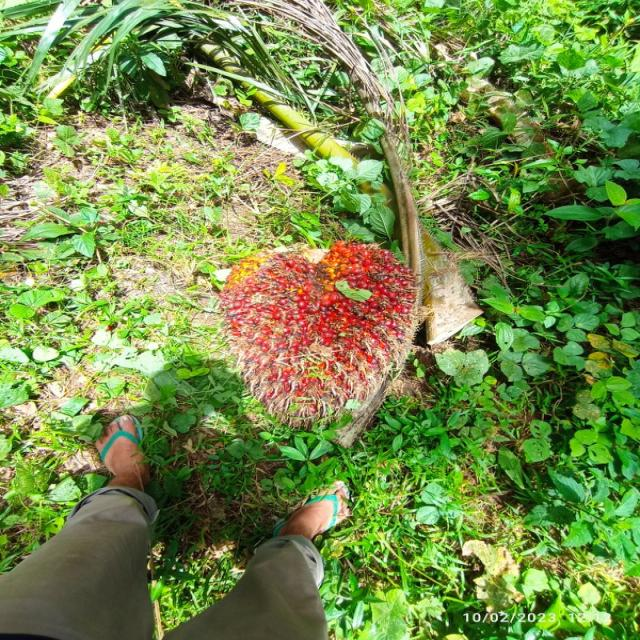fraksi 3: (194, 216, 442, 448)
